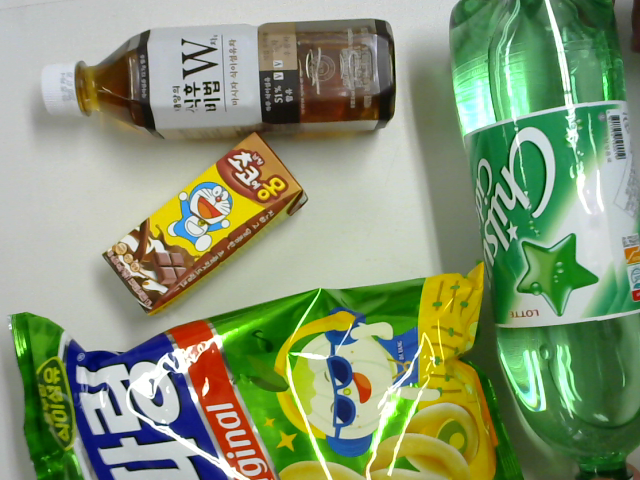Chilseong_Cider_1.5L: (447, 1, 640, 476)
Choco_E_Mong: (101, 134, 305, 308)
Oninon_Ring: (9, 266, 511, 480)
Post-meal_recipe_W_tea_500ml: (33, 22, 395, 144)
